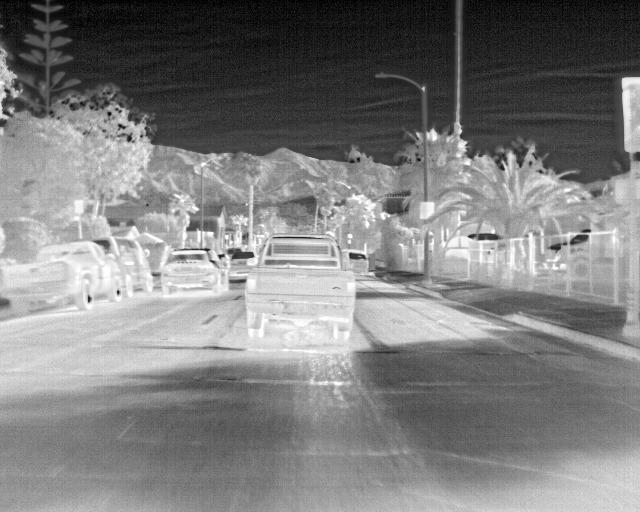car: (245, 233, 357, 340), (0, 239, 125, 317), (544, 227, 624, 280), (91, 235, 155, 297), (160, 247, 229, 296), (228, 251, 259, 276), (341, 249, 369, 275), (217, 253, 230, 269)
light: (628, 83, 639, 146), (259, 238, 262, 245)
sign: (420, 201, 434, 219), (75, 199, 84, 214), (177, 231, 188, 241), (347, 234, 352, 238), (257, 235, 264, 237), (348, 240, 351, 244), (254, 244, 259, 246)
